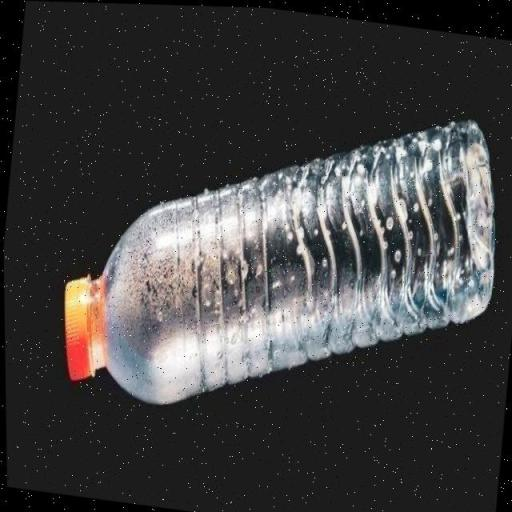plastic: (45, 51, 512, 450)
